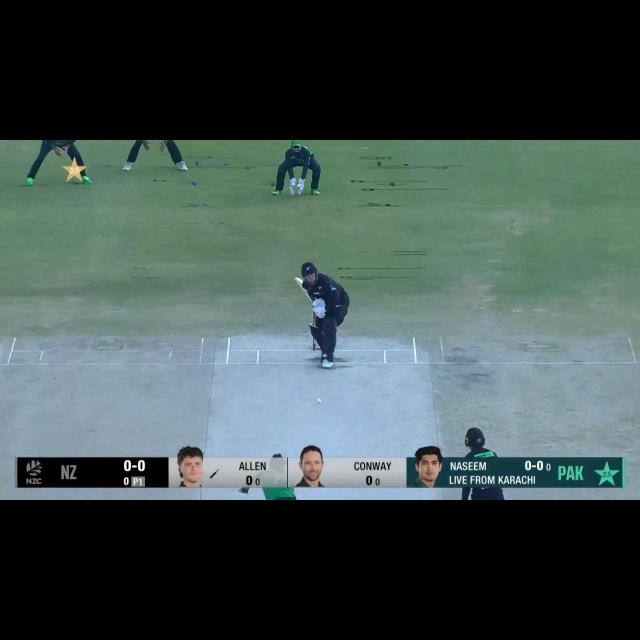bat: (291, 277, 319, 304)
toe: (292, 276, 304, 284)
